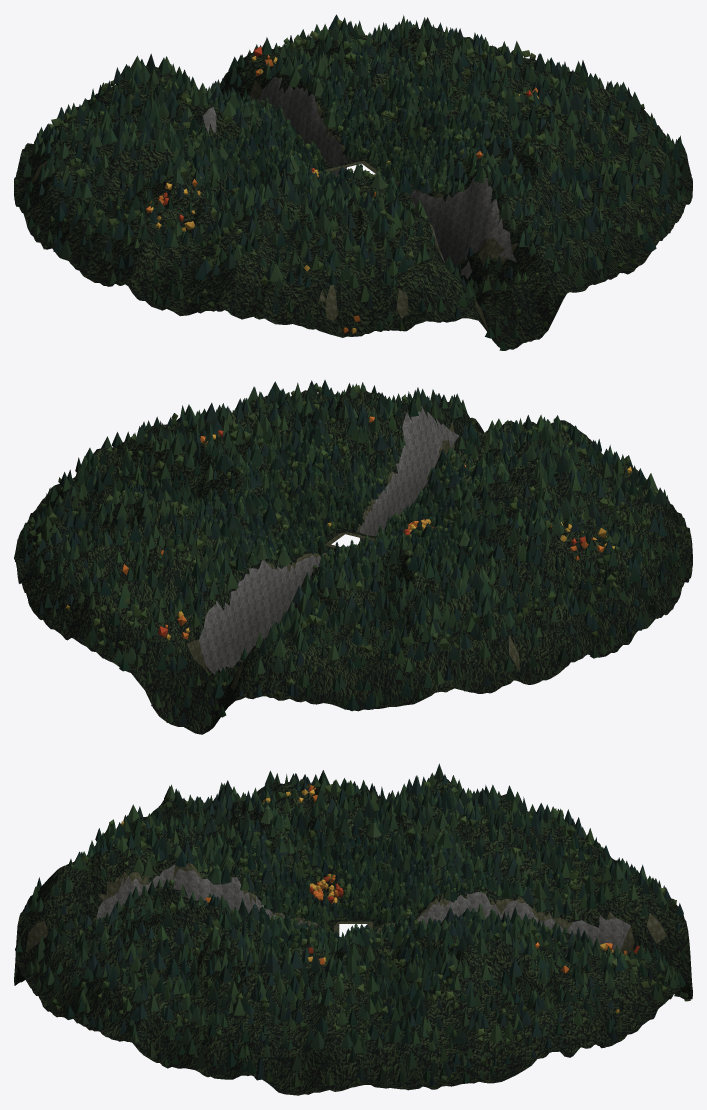
File: backdrop_near_rect_desert_summer.glb
The picture shows the model from 3 angles, top to bottom: view 1: azimuth 30°, elevation 25°; view 2: azimuth 150°, elevation 25°; view 3: azimuth 270°, elevation 25°; orthographic projection.
Visible parts, largest first — view 1: near_land_S, trees_land_W_0, near_land_W, trees_land_S_0, trees_land_E_0, trees_land_N_0, near_land_E, near_land_N; view 2: near_land_N, trees_land_N_0, trees_land_W_0, near_land_W, trees_land_E_0, trees_land_S_0, near_land_S, near_land_E; view 3: near_land_E, trees_land_E_0, trees_land_W_0, near_land_S, trees_land_N_0, trees_land_S_0, near_land_N, near_land_W.
Part boxes in pixels (x1,y1,x2,y2): near_land_S: (265,125,680,350); trees_land_W_0: (21,89,334,308); near_land_W: (14,102,327,319); trees_land_S_0: (269,116,671,350); trees_land_E_0: (359,22,690,201); trees_land_N_0: (40,14,432,167); near_land_E: (358,28,692,217); near_land_N: (26,27,432,175); near_land_N: (26,510,442,734); trees_land_N_0: (37,500,435,726); trees_land_W_0: (387,451,690,691); near_land_W: (387,461,692,693); trees_land_E_0: (22,386,344,573); trees_land_S_0: (267,380,671,537); near_land_S: (276,389,676,541); near_land_E: (14,395,353,592); near_land_E: (112,915,592,1095); trees_land_E_0: (129,906,582,1087); trees_land_W_0: (137,763,586,921); near_land_S: (14,817,339,1039); trees_land_N_0: (376,808,690,1041); trees_land_S_0: (15,804,330,1034); near_land_N: (373,819,692,1048); near_land_W: (140,779,565,925).
Size of the model in its own units: 577 by 177 by 576.
4 materials, 3 textured.
